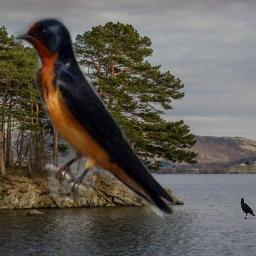Crow: (240, 197, 256, 219)
Swallow: (13, 17, 174, 219)
